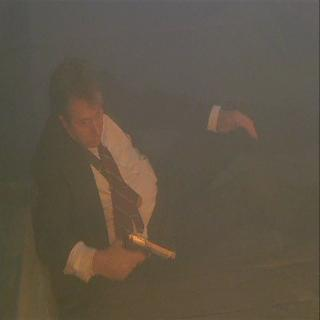gun: (103, 227, 181, 299)
